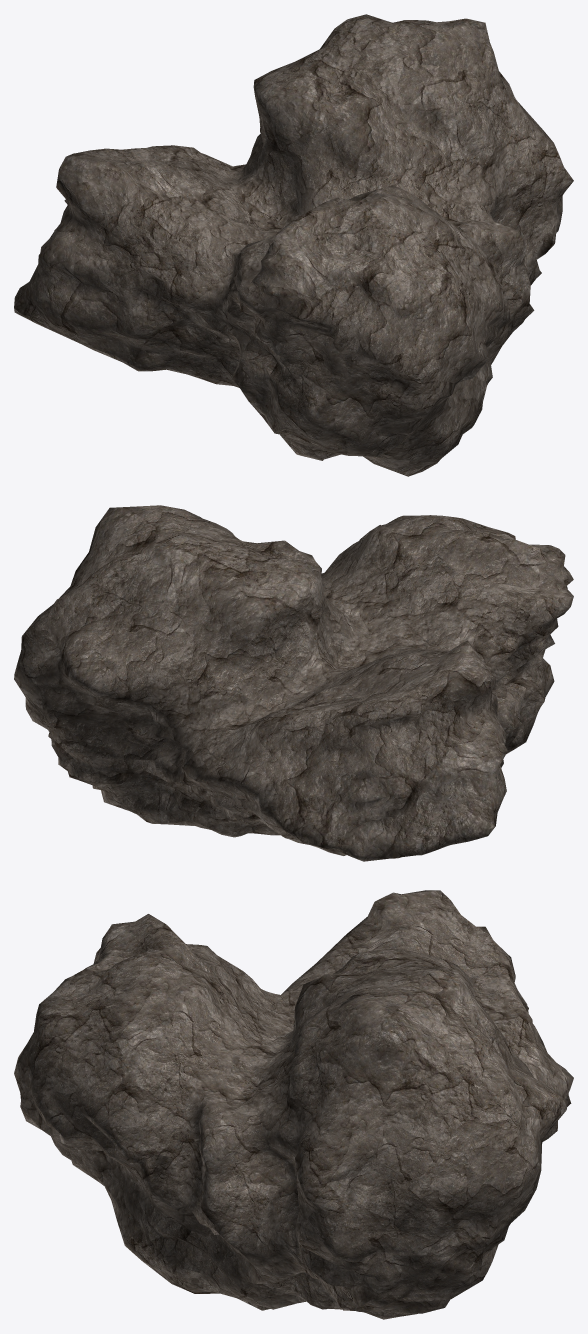
The model's file is rock2.glb.
The picture shows the model from 3 angles, top to bottom: view 1: azimuth 30°, elevation 25°; view 2: azimuth 150°, elevation 25°; view 3: azimuth 270°, elevation 25°; orthographic projection. The views are drawn at different scales.
Visible parts, largest first — view 1: rock2.006; view 2: rock2.006; view 3: rock2.006.
Boxes of the visible parts, x1=… form: rock2.006: x1=14, y1=14, x2=573, y2=476; rock2.006: x1=14, y1=505, x2=573, y2=861; rock2.006: x1=14, y1=890, x2=573, y2=1319.
Bounding box in the file's own units: 25.56 × 17.26 × 24.7.
1 material, 1 textured.
